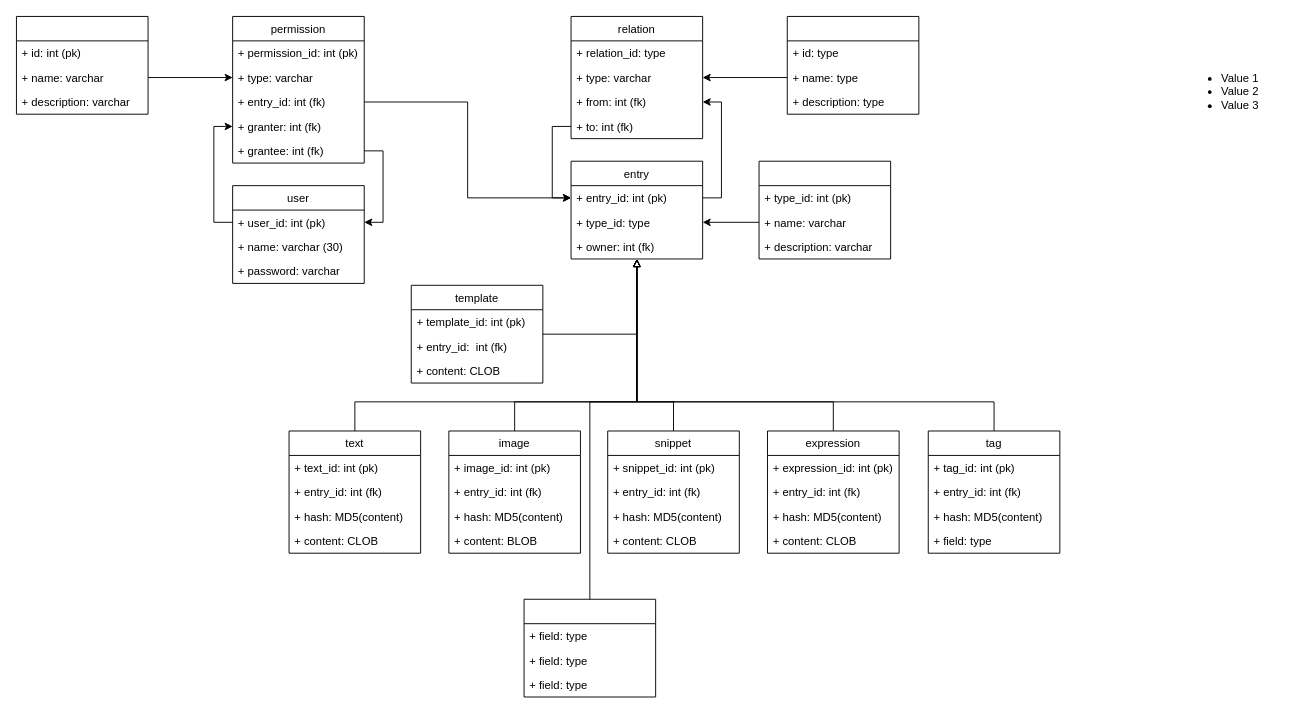
The diagram is 1293 pixels wide and 716 high, and some of its shapes have lost their labels. The box of each missing label's shape, as (x1, y1, x2, y2) in pixels:
entry_type: (758, 160, 891, 259)
permission_type: (16, 16, 148, 114)
reference: (523, 598, 656, 697)
relation_type: (786, 16, 919, 114)
